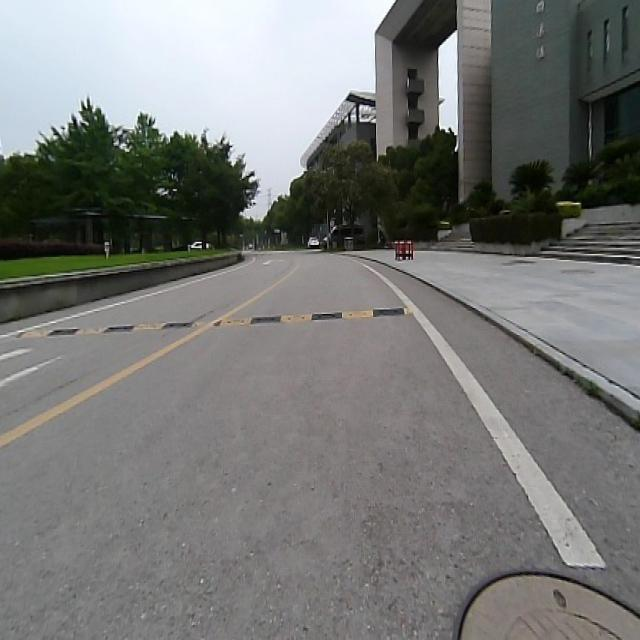Speed Bump: (10, 301, 414, 341)
